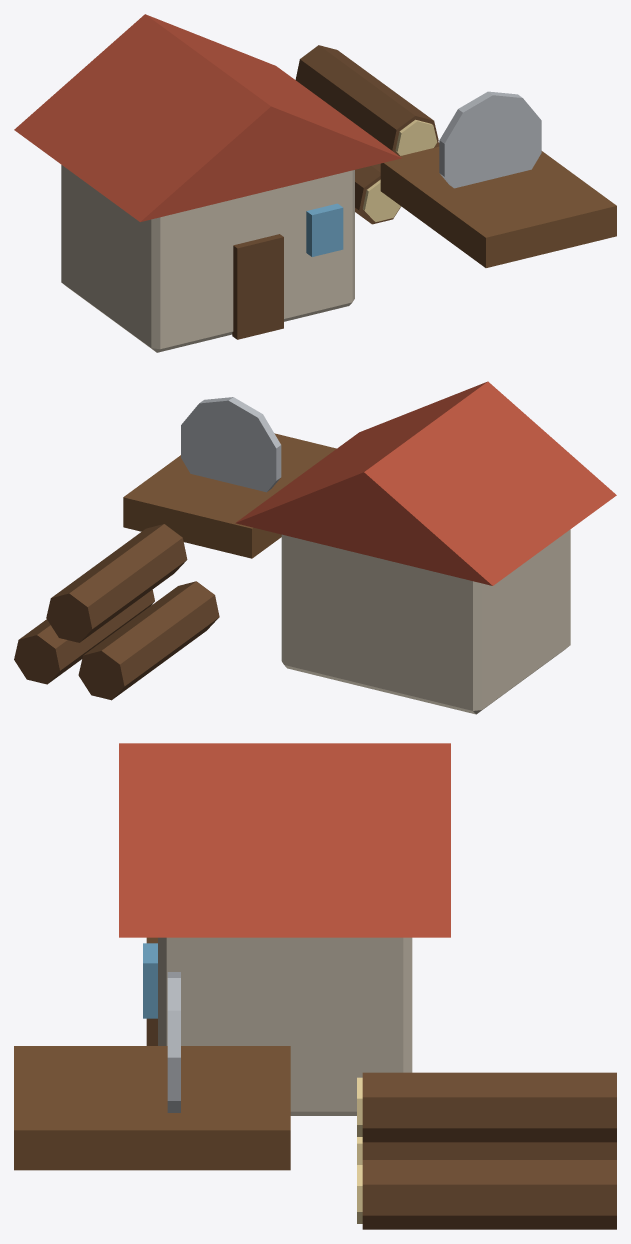
File: imp_lumbermill.glb
The picture shows the model from 3 angles, top to bottom: view 1: azimuth 30°, elevation 25°; view 2: azimuth 150°, elevation 25°; view 3: azimuth 270°, elevation 25°; orthographic projection. The views are drawn at different scales.
Parts seen in each view (by area): view 1: imp_lumbermill; view 2: imp_lumbermill; view 3: imp_lumbermill.
Part boxes in pixels (x1=…): imp_lumbermill: x1=14, y1=14, x2=616, y2=352; imp_lumbermill: x1=14, y1=381, x2=616, y2=714; imp_lumbermill: x1=14, y1=743, x2=616, y2=1229.
Bounding box in the file's own units: 0.6 × 0.31 × 0.545.
